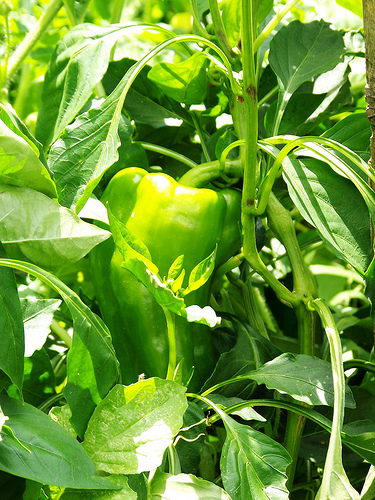capsicum: (90, 158, 250, 388)
